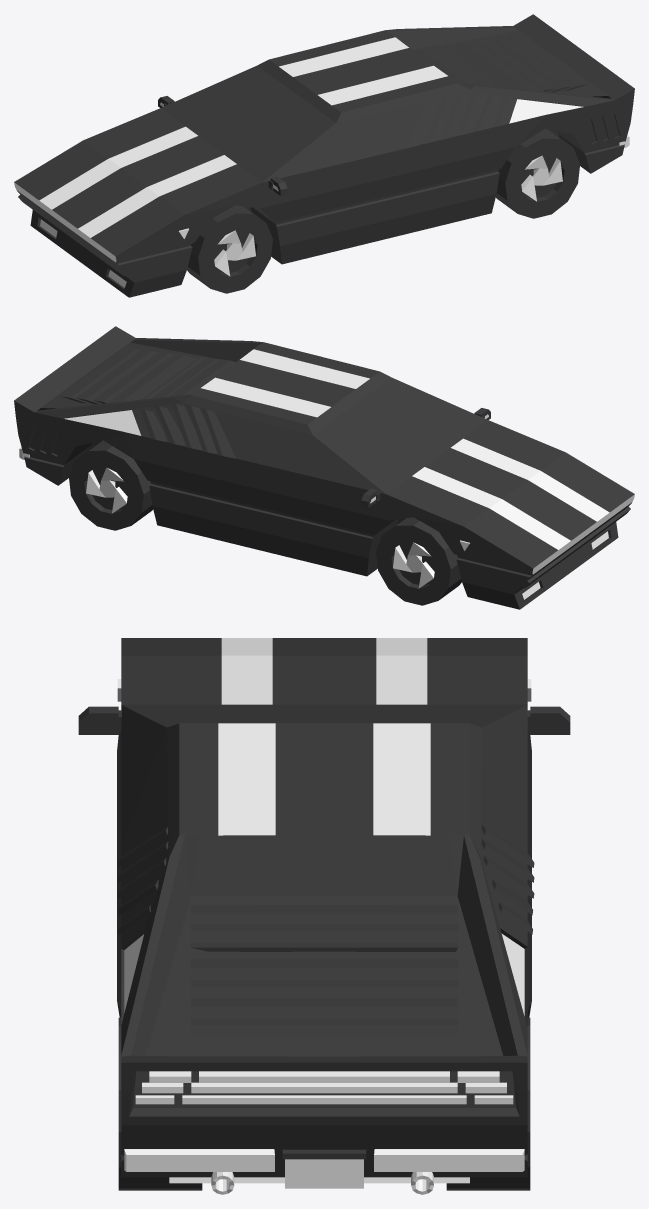
Rendered from car_D.fbx.
The picture shows the model from 3 angles, top to bottom: view 1: azimuth 30°, elevation 25°; view 2: azimuth 150°, elevation 25°; view 3: azimuth 270°, elevation 25°; orthographic projection. The views are drawn at different scales.
Parts seen in each view (by area): view 1: Futuristic2; view 2: Futuristic2; view 3: Futuristic2.
Boxes of the visible parts, <box> form: Futuristic2: <box>14,14,634,297</box>; Futuristic2: <box>14,326,634,609</box>; Futuristic2: <box>78,638,570,1194</box>.
Bounding box in the file's own units: 1725 × 442 × 707.
